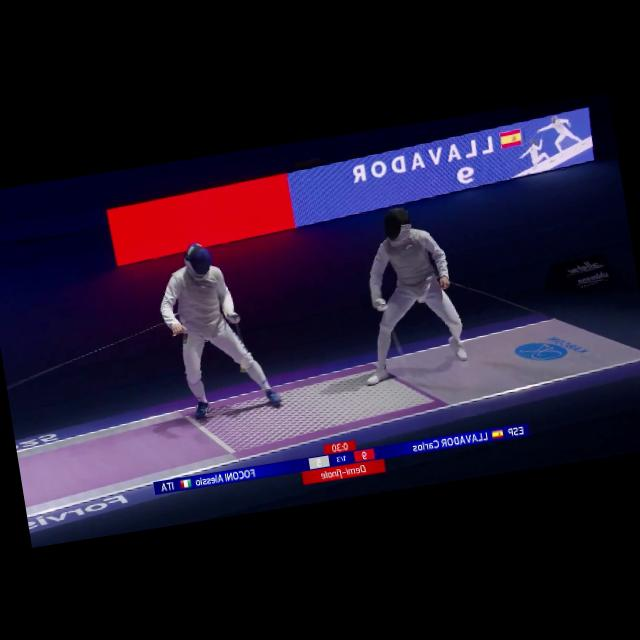blade: (379, 296, 414, 391), (224, 311, 244, 348)
